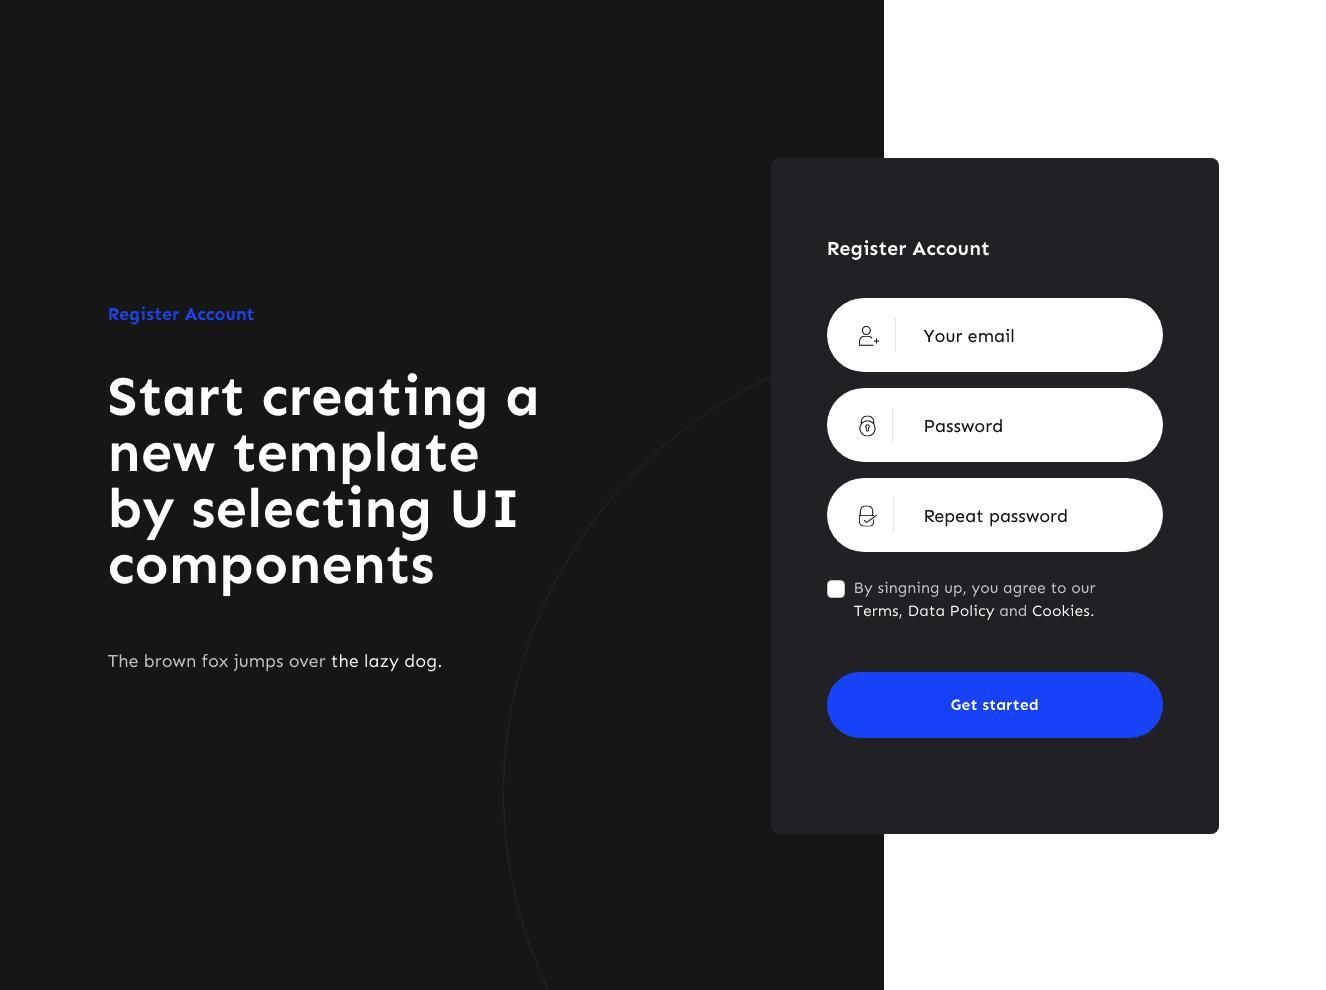button: (830, 672, 1165, 741)
checkbox: (826, 579, 847, 600)
icon: (858, 320, 882, 351), (857, 499, 880, 528), (857, 411, 878, 439)
input: (827, 476, 1169, 555), (827, 386, 1164, 463), (826, 298, 1165, 373)
label: (853, 576, 1103, 627), (823, 236, 999, 265)
